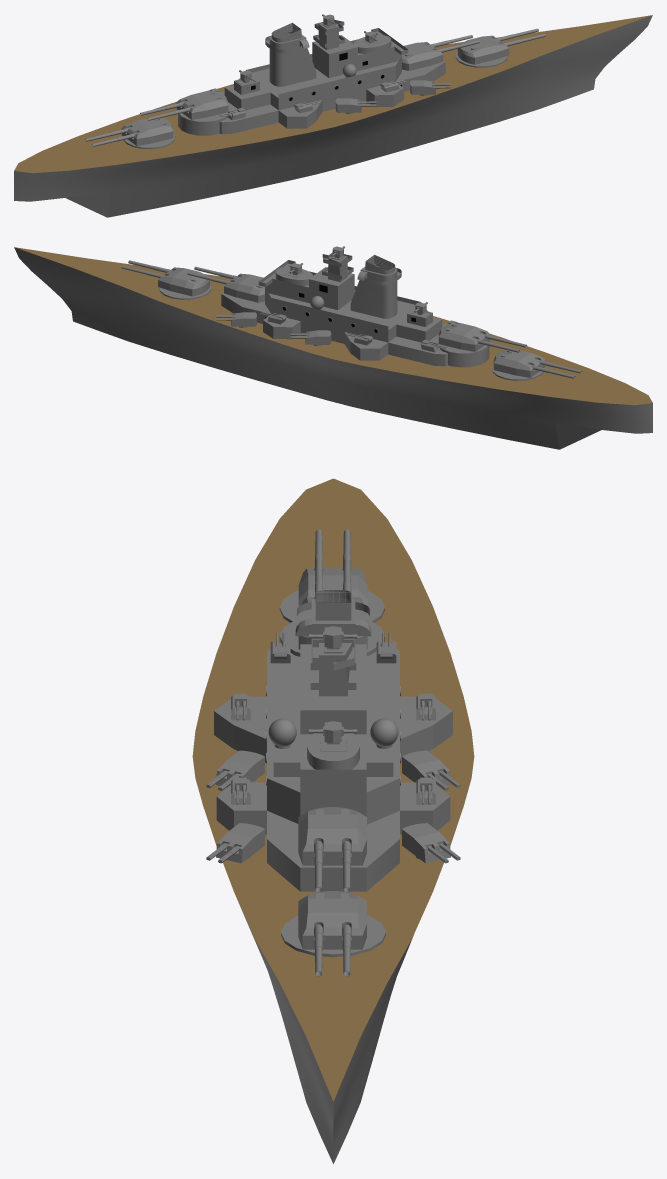
File: LowPolyShip.fbx
3 renders of one model, top to bottom at view 1: azimuth 30°, elevation 25°; view 2: azimuth 150°, elevation 25°; view 3: azimuth 270°, elevation 25°, orthographic. The views are drawn at different scales.
Parts seen in each view (by area): view 1: Cylinder, Cube.003, Cube.001, Cube.002, Cube, Cylinder.009, Cube.008, Cube.007; view 2: Cylinder, Cube.003, Cube.001, Cube.002, Cube, Cylinder.009, Cube.009, Cube.006; view 3: Cylinder, Cube.001, Cube, Cube.006, Cube.007, Cube.002, Cylinder.001, Cube.008, Cube.009.
Part boxes in pixels (<box>): Cylinder: <box>14,15,652,217</box>; Cube.003: <box>176,91,228,119</box>; Cube.001: <box>457,35,509,64</box>; Cube.002: <box>121,118,173,145</box>; Cube: <box>402,42,443,70</box>; Cylinder.009: <box>178,107,230,135</box>; Cube.008: <box>335,98,376,114</box>; Cube.007: <box>410,80,450,95</box>; Cylinder: <box>14,247,652,449</box>; Cube.003: <box>438,323,490,351</box>; Cube.001: <box>158,267,209,296</box>; Cube.002: <box>493,350,545,377</box>; Cube: <box>224,273,264,302</box>; Cylinder.009: <box>437,339,489,367</box>; Cube.009: <box>290,330,331,346</box>; Cube.006: <box>216,312,256,327</box>; Cylinder: <box>192,478,474,1164</box>; Cube.001: <box>298,891,366,949</box>; Cube: <box>298,807,366,865</box>; Cube.006: <box>402,823,460,863</box>; Cube.007: <box>206,823,264,863</box>; Cube.002: <box>298,568,367,605</box>; Cylinder.001: <box>281,915,385,957</box>; Cube.008: <box>206,750,264,790</box>; Cube.009: <box>402,750,460,790</box>.
Bounding box in the file's own units: 5574 × 1144 × 1064.
